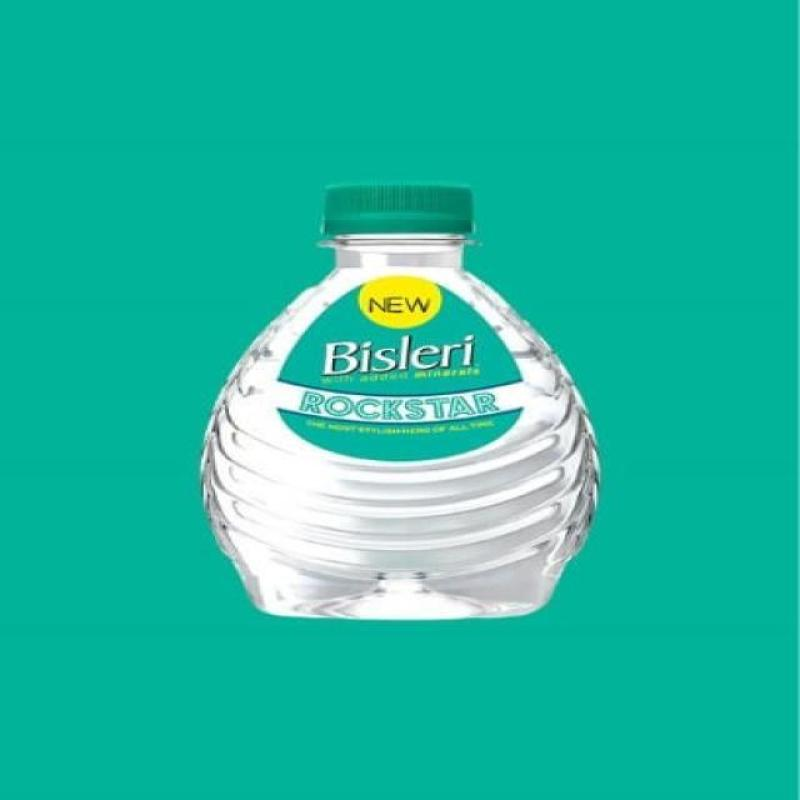botella: (198, 182, 604, 628)
